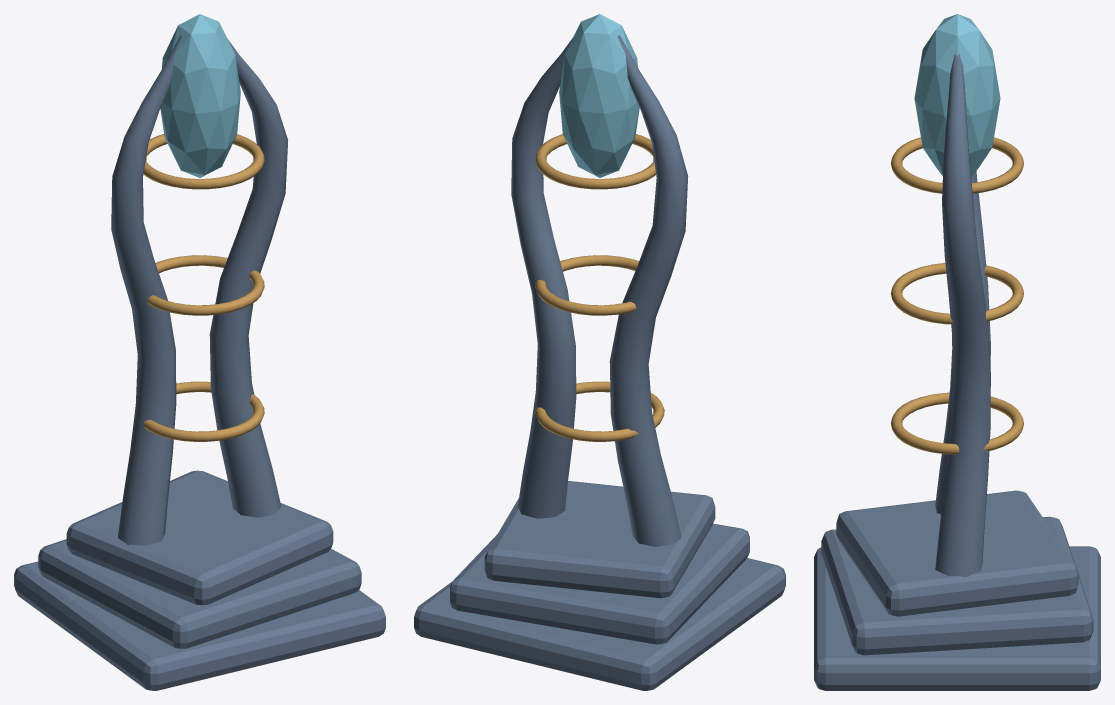
Rendered from StormObelisk.fbx.
3 views of the same model, side by side, from view 1: azimuth 30°, elevation 25°; view 2: azimuth 150°, elevation 25°; view 3: azimuth 270°, elevation 25° (orthographic). The views are drawn at different scales.
Visible parts, largest first — view 1: Octagonal footing.002_export, Swept conductor_export, Octagonal footing_export, Swept conductor.001_export, Octagonal footing.001_export, Stormglass heart_export, Conductive ring.001_export, Conductive ring.002_export, Conductive ring_export; view 2: Swept conductor_export, Octagonal footing.002_export, Octagonal footing_export, Swept conductor.001_export, Octagonal footing.001_export, Stormglass heart_export, Conductive ring.001_export, Conductive ring.002_export, Conductive ring_export; view 3: Octagonal footing.002_export, Swept conductor.001_export, Octagonal footing_export, Octagonal footing.001_export, Stormglass heart_export, Conductive ring_export, Conductive ring.001_export, Conductive ring.002_export, Swept conductor_export.
Part boxes in pixels (x1=…): Octagonal footing.002_export: x1=66, y1=470, x2=333, y2=605; Swept conductor_export: x1=111, y1=35, x2=182, y2=545; Octagonal footing_export: x1=14, y1=561, x2=385, y2=690; Swept conductor.001_export: x1=209, y1=39, x2=288, y2=517; Octagonal footing.001_export: x1=38, y1=539, x2=361, y2=648; Stormglass heart_export: x1=160, y1=14, x2=240, y2=177; Conductive ring.001_export: x1=146, y1=255, x2=264, y2=315; Conductive ring.002_export: x1=143, y1=134, x2=264, y2=189; Conductive ring_export: x1=143, y1=381, x2=264, y2=441; Swept conductor_export: x1=609, y1=35, x2=688, y2=546; Octagonal footing.002_export: x1=484, y1=481, x2=715, y2=598; Octagonal footing_export: x1=414, y1=558, x2=785, y2=690; Swept conductor.001_export: x1=511, y1=38, x2=576, y2=518; Octagonal footing.001_export: x1=450, y1=523, x2=749, y2=644; Stormglass heart_export: x1=559, y1=14, x2=639, y2=177; Conductive ring.001_export: x1=535, y1=255, x2=639, y2=315; Conductive ring.002_export: x1=535, y1=134, x2=655, y2=189; Conductive ring_export: x1=535, y1=381, x2=664, y2=441; Octagonal footing.002_export: x1=836, y1=490, x2=1078, y2=616; Swept conductor.001_export: x1=935, y1=53, x2=990, y2=577; Octagonal footing_export: x1=814, y1=546, x2=1100, y2=690; Octagonal footing.001_export: x1=821, y1=516, x2=1093, y2=655; Stormglass heart_export: x1=914, y1=14, x2=1000, y2=176; Conductive ring_export: x1=891, y1=392, x2=1023, y2=454; Conductive ring.001_export: x1=891, y1=263, x2=1023, y2=324; Conductive ring.002_export: x1=891, y1=137, x2=1023, y2=193; Swept conductor_export: x1=935, y1=171, x2=990, y2=514.
Bounding box in the file's own units: 400 × 955 × 400.
